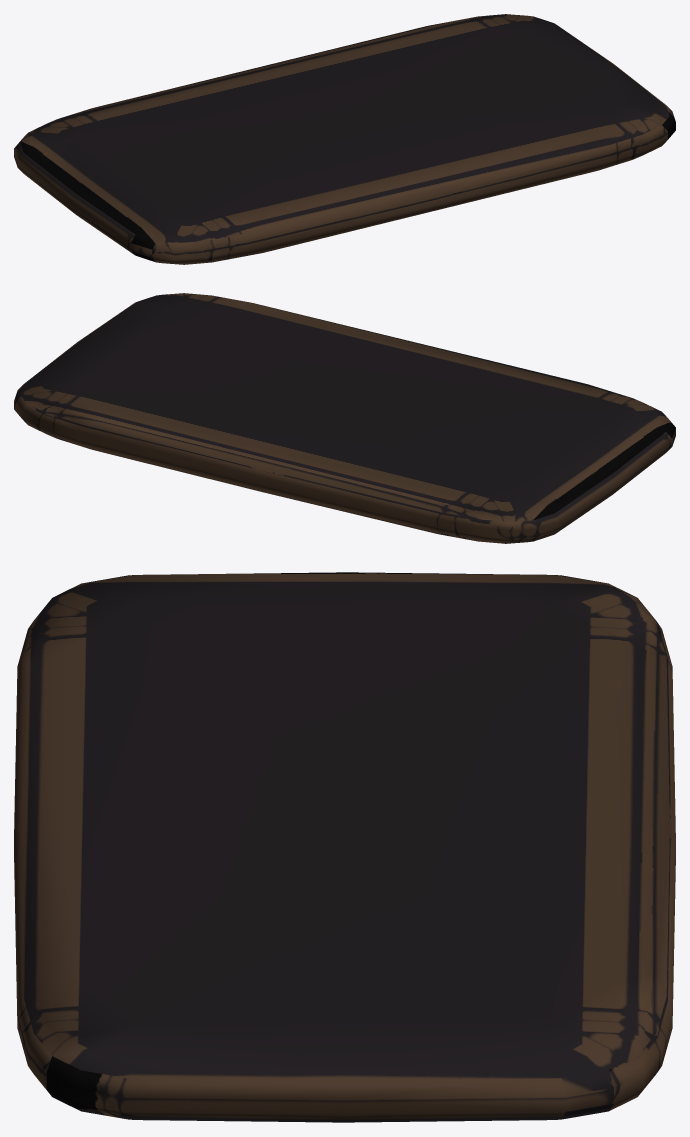
The model's file is Remache_Cinturon.fbx.
3 views of the same model, one above another, from view 1: azimuth 30°, elevation 25°; view 2: azimuth 150°, elevation 25°; view 3: azimuth 270°, elevation 25° (orthographic). The views are drawn at different scales.
Visible parts, largest first — view 1: Remache_Cinturon; view 2: Remache_Cinturon; view 3: Remache_Cinturon.
Boxes of the visible parts, bbox=[...] form: Remache_Cinturon: bbox=[14, 14, 675, 264]; Remache_Cinturon: bbox=[14, 293, 675, 543]; Remache_Cinturon: bbox=[14, 572, 675, 1122].
Size of the model in its own units: 3.4 by 0.2143 by 1.83.
